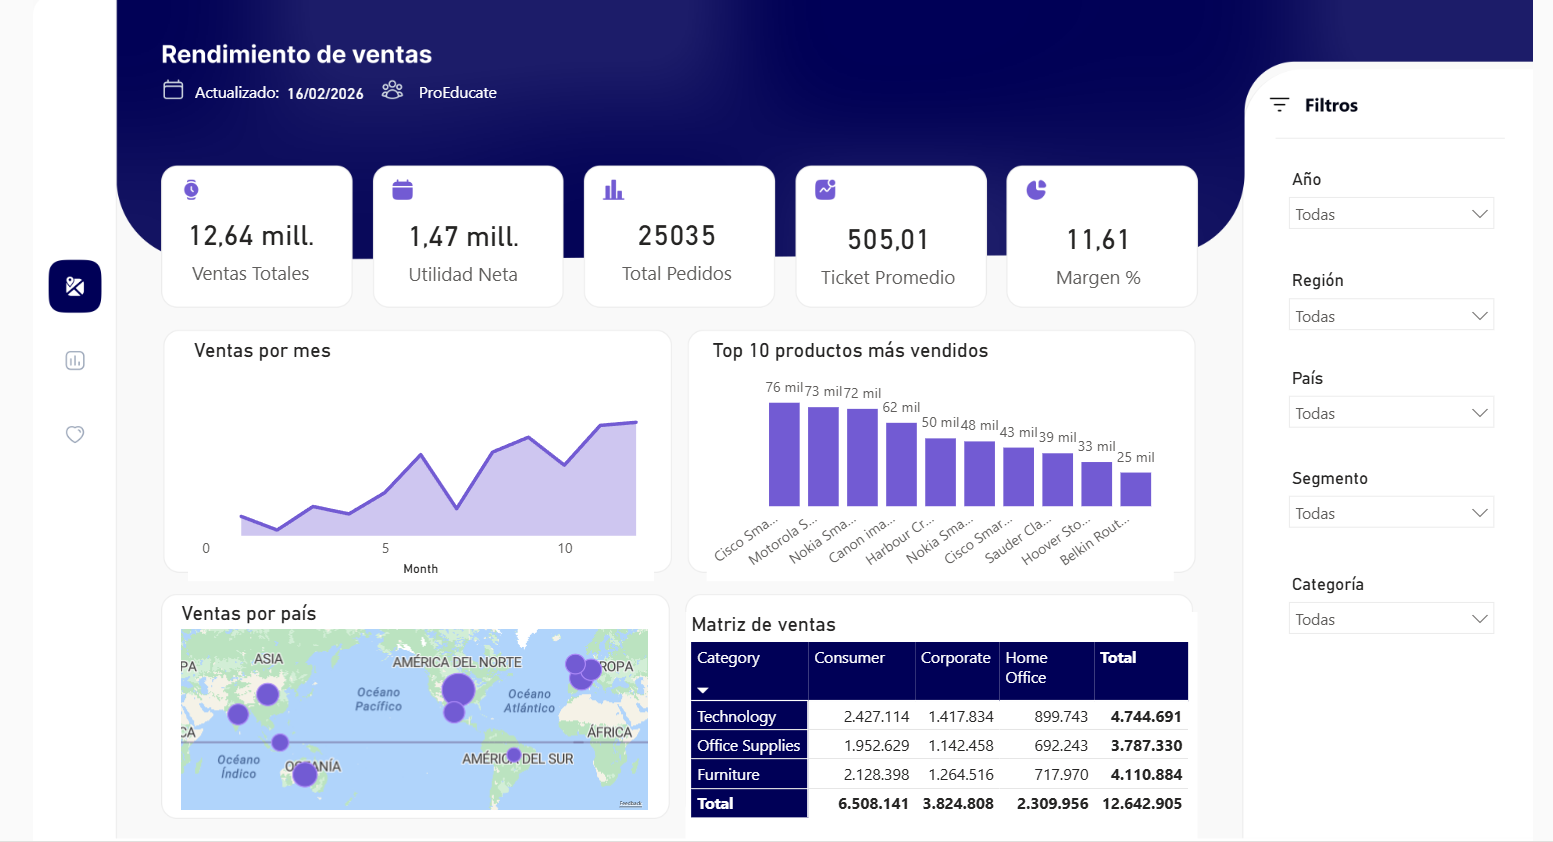

The page's visual inventory and layout, read from the dashboard file:
{"tool":"powerbi","page":{"name":"Rendimiento de ventas","canvas":[1280,720],"ordinal":0},"visuals":[{"type":"card","fields":{"Values":["Medidas.Ventas Totales"]},"box":[121.4,177.1,128.6,72.9],"z":0},{"type":"card","fields":{"Values":["Medidas.Utilidad Neta"]},"box":[302.9,178.6,128.6,72.9],"z":1000},{"type":"card","fields":{"Values":["Medidas.Total Pedidos"]},"box":[485.7,177.1,128.6,72.9],"z":2000},{"type":"card","fields":{"Values":["Medidas.Ticket Promedio"]},"box":[665.7,180,128.6,72.9],"z":3000},{"type":"card","fields":{"Values":["Medidas.Margen %"]},"box":[844.3,180,128.6,72.9],"z":4000},{"type":"slicer","fields":{"Values":["Dim_Date.Date.Variación.Jerarquía de fechas.Año"]},"box":[1061.4,141.4,195.7,72.9],"z":5000},{"type":"slicer","fields":{"Values":["Dim_Location.Region"]},"box":[1061.4,228.6,195.7,72.9],"z":6000},{"type":"slicer","fields":{"Values":["Dim_Customer.Segment"]},"box":[1061.4,396.7,195.7,72.9],"z":7000},{"type":"slicer","fields":{"Values":["Dim_Product.Category"]},"box":[1061.4,487.7,195.7,72.9],"z":8000},{"type":"textbox","box":[132.9,67.1,87.1,32.9],"z":9000},{"type":"card","fields":{"Values":["Medidas.FechaHora Actual"]},"box":[200.9,63.6,98.2,40],"z":10000},{"type":"textbox","box":[323.8,67.5,140,32.5],"z":11000},{"type":"areaChart","title":"Ventas por mes","fields":{"Category":["Dim_Date.Month"],"Y":["Sum(Fact_Sales.Sales)"]},"box":[132.5,291.2,397.5,207.5],"z":12000},{"type":"clusteredColumnChart","title":"Top 10 productos más vendidos","fields":{"Y":["Sum(Fact_Sales.Sales)"],"Category":["Dim_Product.ProductName"]},"box":[574.3,290.8,398.1,207.5],"z":13000},{"type":"azureMap","title":"Ventas por país","fields":{"Category":["Dim_Location.Country"],"Size":["Sum(Fact_Sales.Sales)"]},"box":[121.9,515.2,407.8,183.4],"z":14000},{"type":"slicer","fields":{"Values":["Dim_Location.Country"]},"box":[1061.4,311.4,195.7,72.9],"z":15000},{"type":"pivotTable","title":"Matriz de ventas","fields":{"Rows":["Dim_Product.Category"],"Values":["Sum(Fact_Sales.Sales)"],"Columns":["Dim_Customer.Segment"]},"box":[557.1,524.3,437.1,195.7],"z":16000},{"type":"actionButton","box":[11.4,291.4,45.7,40],"z":16001}]}

Visuals, with their boxes on the page's 1280x720 design canvas (x1, y1, x2, y2). These are canvas units, not pixel positions in the 1553x842 screenshot, which may show the page scaled, cropped or inside an application window:
card - Medidas.Ventas Totales: 121 177 250 250
card - Medidas.Utilidad Neta: 303 179 432 252
card - Medidas.Total Pedidos: 486 177 614 250
card - Medidas.Ticket Promedio: 666 180 794 253
card - Medidas.Margen %: 844 180 973 253
slicer - Dim_Date.Date.Variación.Jerarquía de fechas.Año: 1061 141 1257 214
slicer - Dim_Location.Region: 1061 229 1257 302
slicer - Dim_Customer.Segment: 1061 397 1257 470
slicer - Dim_Product.Category: 1061 488 1257 561
textbox: 133 67 220 100
card - Medidas.FechaHora Actual: 201 64 299 104
textbox: 324 68 464 100
"Ventas por mes" areaChart: 132 291 530 499
"Top 10 productos más vendidos" clusteredColumnChart: 574 291 972 498
"Ventas por país" azureMap: 122 515 530 699
slicer - Dim_Location.Country: 1061 311 1257 384
"Matriz de ventas" pivotTable: 557 524 994 720
actionButton: 11 291 57 331
